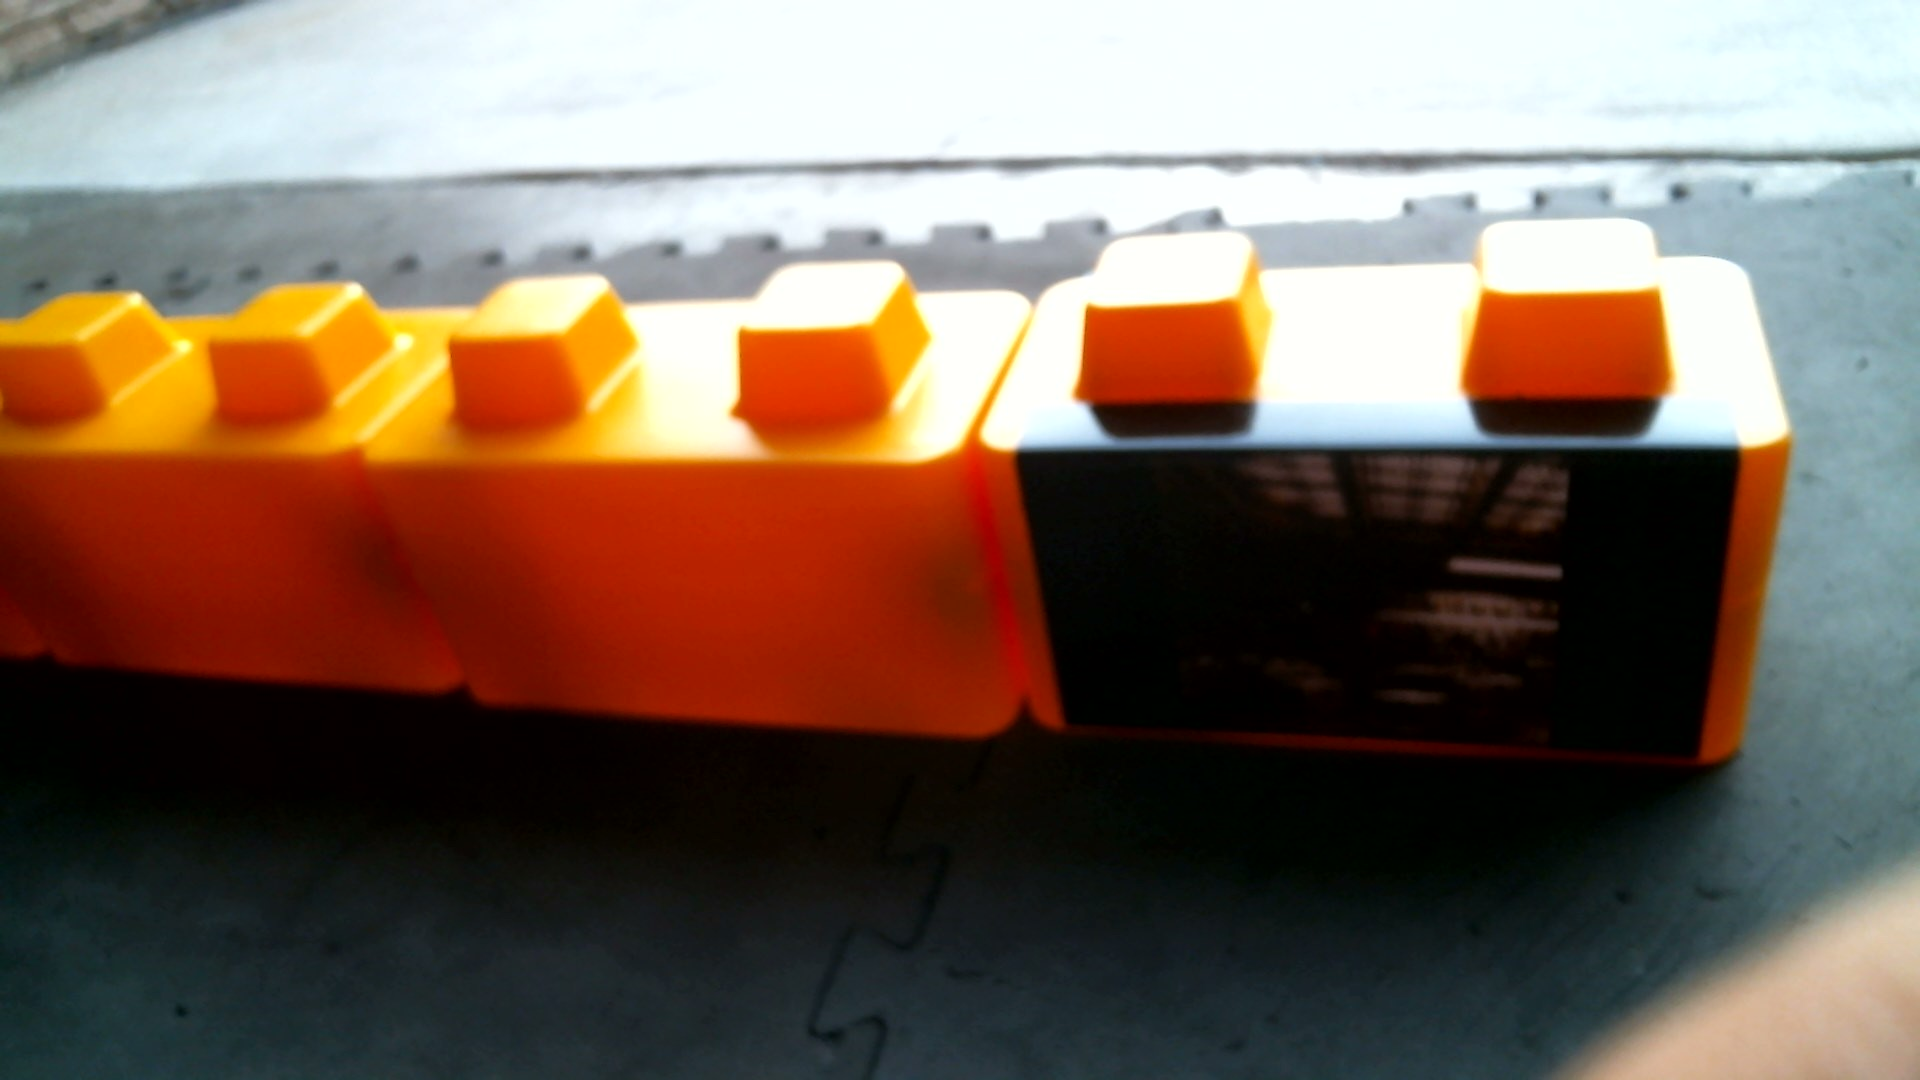right: (7, 190, 1797, 771)
